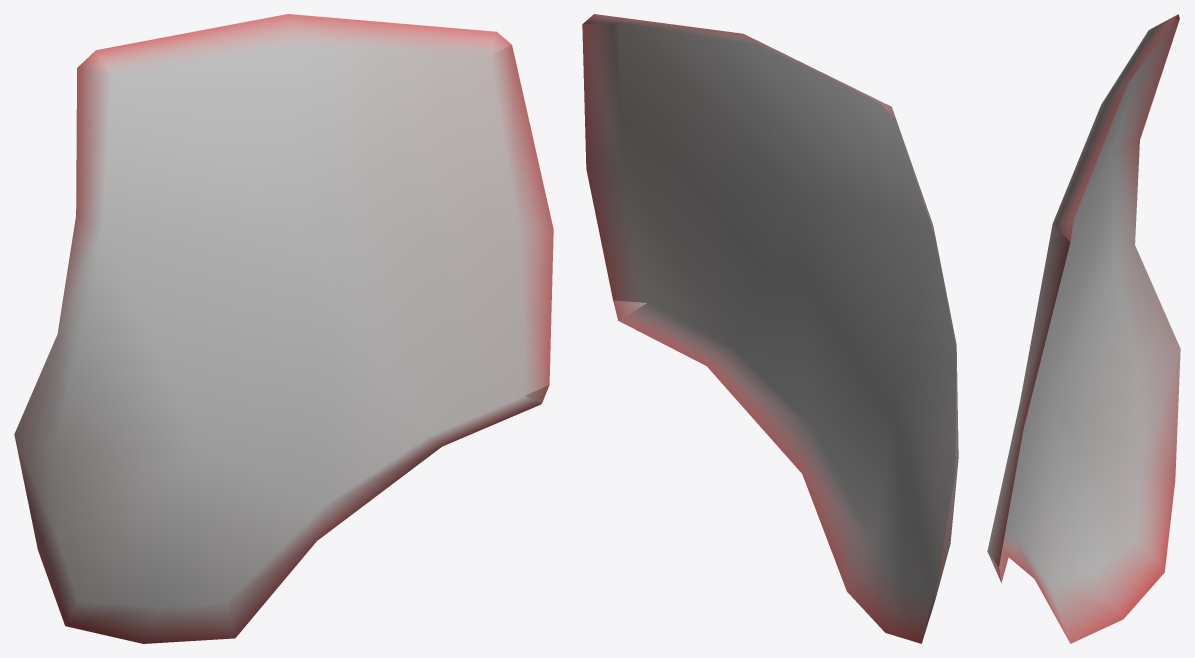
File: SM_WEP_Eff_D73NJ3_C_03.glb
3 views of the same model, side by side, from view 1: azimuth 30°, elevation 25°; view 2: azimuth 150°, elevation 25°; view 3: azimuth 270°, elevation 25° (orthographic). The views are drawn at different scales.
Parts seen in each view (by area): view 1: SM_WEP_Eff_D73NJ3_C_03; view 2: SM_WEP_Eff_D73NJ3_C_03; view 3: SM_WEP_Eff_D73NJ3_C_03.
Boxes of the visible parts, bbox=[...] form: SM_WEP_Eff_D73NJ3_C_03: bbox=[14, 14, 553, 643]; SM_WEP_Eff_D73NJ3_C_03: bbox=[582, 14, 958, 643]; SM_WEP_Eff_D73NJ3_C_03: bbox=[987, 14, 1180, 643].
Bounding box in the file's own units: 0.0896 × 0.1097 × 0.0315.
